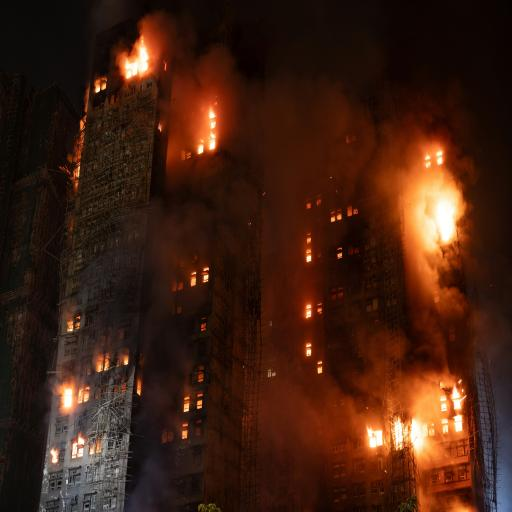buildingfire: (50, 0, 488, 512), (280, 89, 492, 512), (178, 25, 252, 305), (403, 146, 473, 256), (90, 28, 166, 94), (60, 376, 75, 417)
fire: (186, 64, 226, 152), (112, 46, 152, 73)
smoke: (246, 42, 392, 512), (76, 190, 228, 461), (372, 87, 458, 271), (195, 44, 259, 152), (124, 14, 203, 95)
